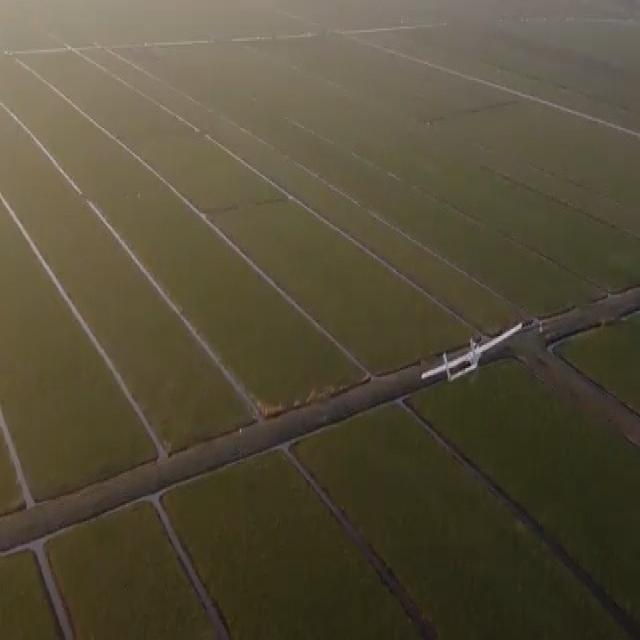drones: (420, 306, 524, 394)
